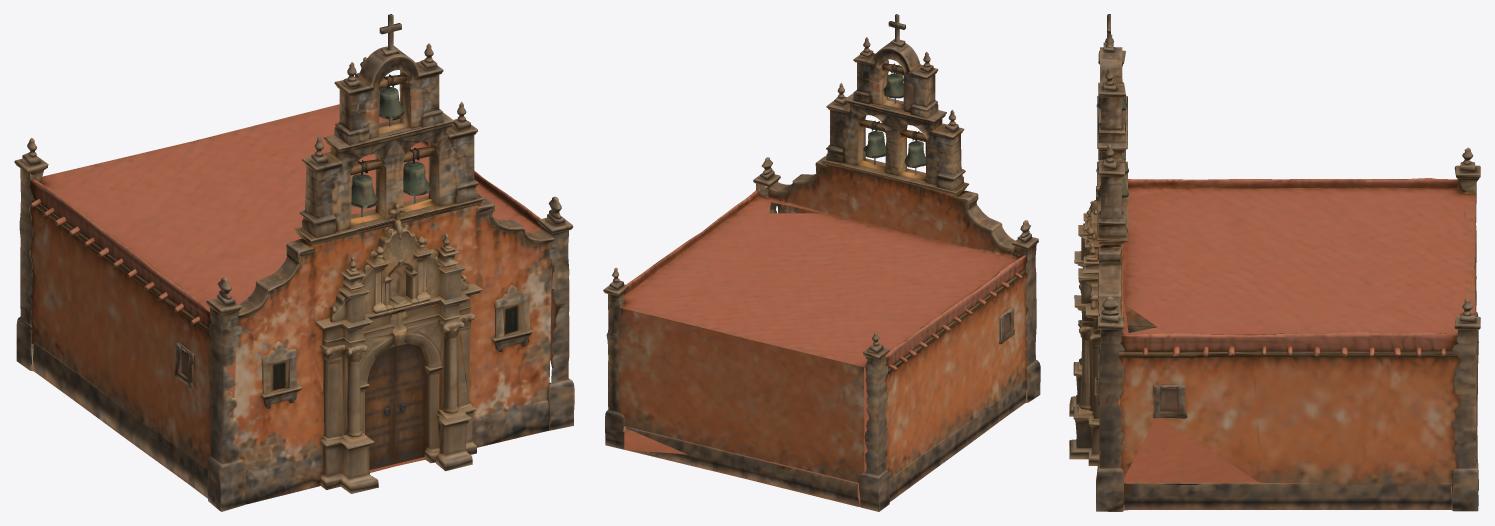
File: Meshy_AI_Mexican_Church_Facade_20261110_texture.obj
3 renders of one model, left to right at view 1: azimuth 30°, elevation 25°; view 2: azimuth 150°, elevation 25°; view 3: azimuth 270°, elevation 25°, orthographic. The views are drawn at different scales.
Parts seen in each view (by area): view 1: Meshy_AI_Mexican_Church_Facade_20261110_texture; view 2: Meshy_AI_Mexican_Church_Facade_20261110_texture; view 3: Meshy_AI_Mexican_Church_Facade_20261110_texture.
Boxes of the visible parts, x1,y1,x2,y2 form: Meshy_AI_Mexican_Church_Facade_20261110_texture: [14, 14, 574, 511]; Meshy_AI_Mexican_Church_Facade_20261110_texture: [603, 14, 1040, 511]; Meshy_AI_Mexican_Church_Facade_20261110_texture: [1069, 14, 1480, 511].
Bounding box in the file's own units: 0.8027 × 0.9556 × 0.854.
Materials: 1 (1 with a texture image).
